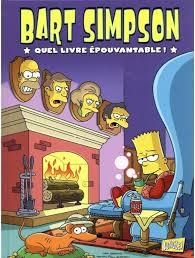Bart: (125, 127, 180, 207)
Homer: (18, 51, 46, 102)
